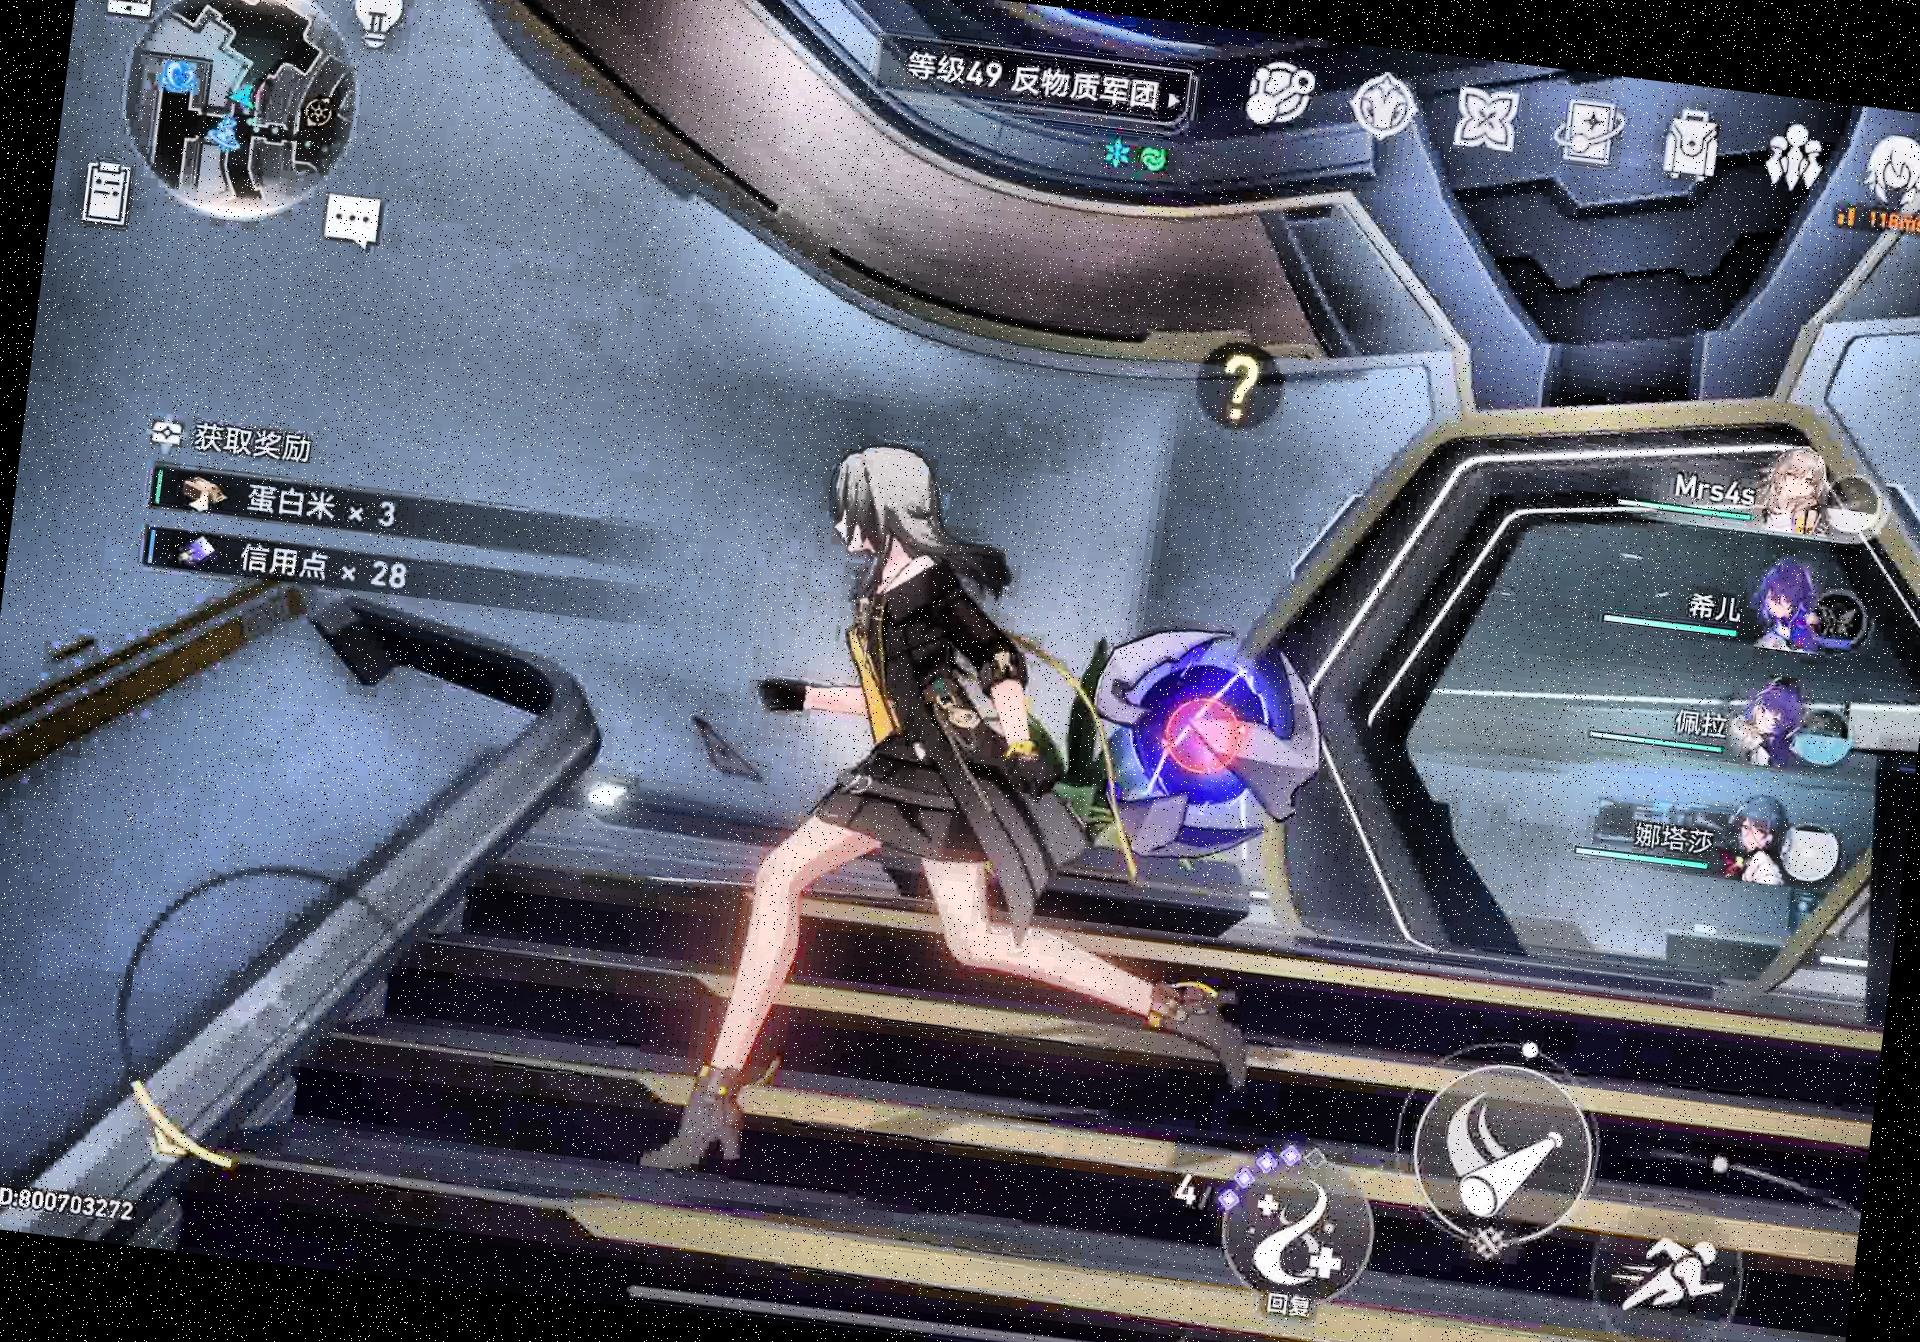Enemy: (1072, 598, 1332, 859)
Self: (636, 422, 1341, 1230)
